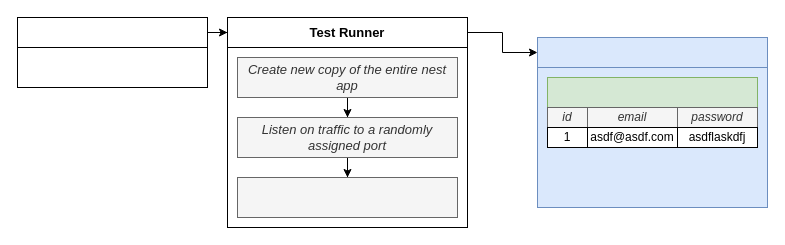
The diagram is 785 pixels wide and 245 high, and some of its shapes have lost their labels. The box of each missing label's shape, as (x1, y1, x2, y2) in pixels:
it('handles a request to signup'): (16, 46, 208, 88)
Receive requests from the test: (236, 176, 458, 218)
SQLite DB: (536, 36, 768, 68)
Test: (16, 16, 208, 48)
Users Table: (546, 76, 758, 108)
